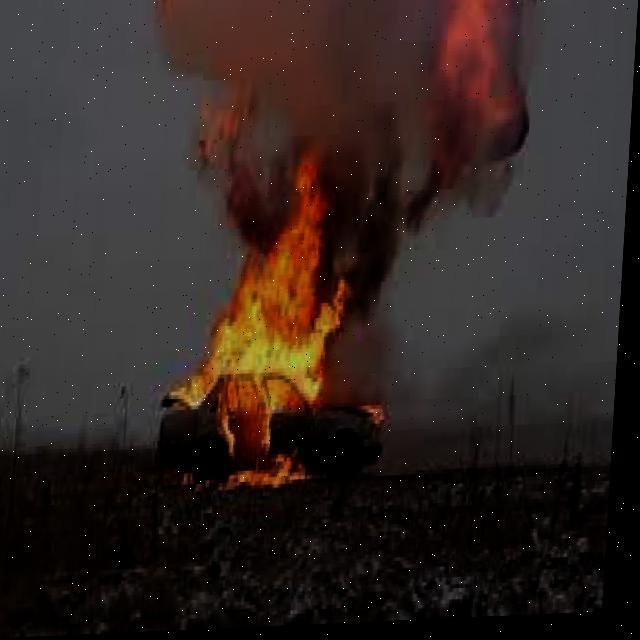Fire: (164, 143, 403, 476)
